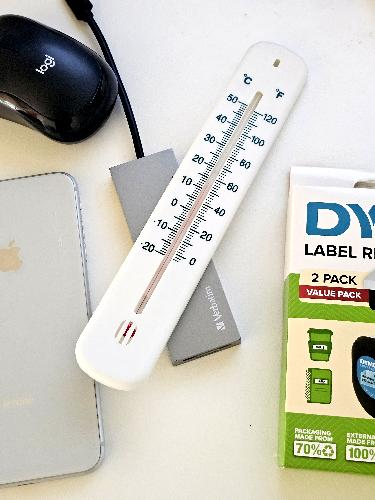thermo: (68, 29, 327, 395)
